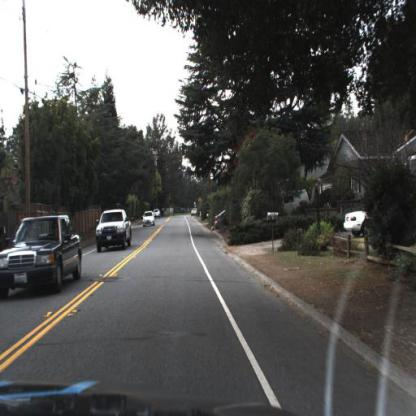car: (0, 214, 83, 298), (92, 208, 132, 253), (214, 205, 228, 227), (141, 208, 155, 224)
